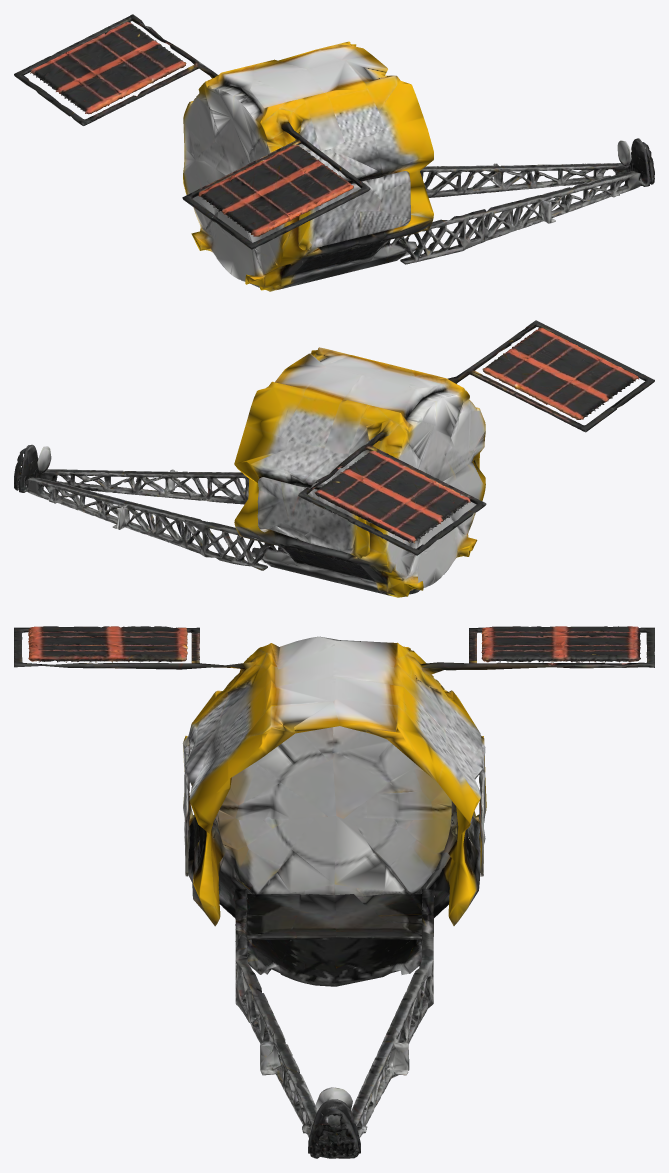
File: hwo-low.glb
The picture shows the model from 3 angles, top to bottom: view 1: azimuth 30°, elevation 25°; view 2: azimuth 150°, elevation 25°; view 3: azimuth 270°, elevation 25°; orthographic projection. The views are drawn at different scales.
Size of the model in its own units: 1.9 by 0.6971 by 1.52.
Materials: 1 (1 with a texture image).
